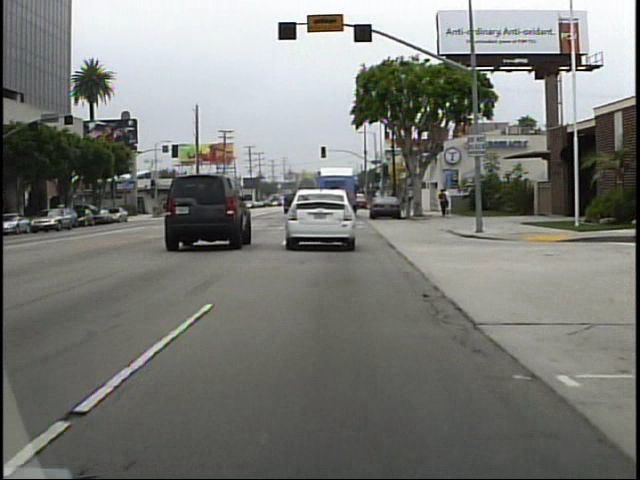person: (437, 187, 449, 218), (445, 185, 455, 215)
